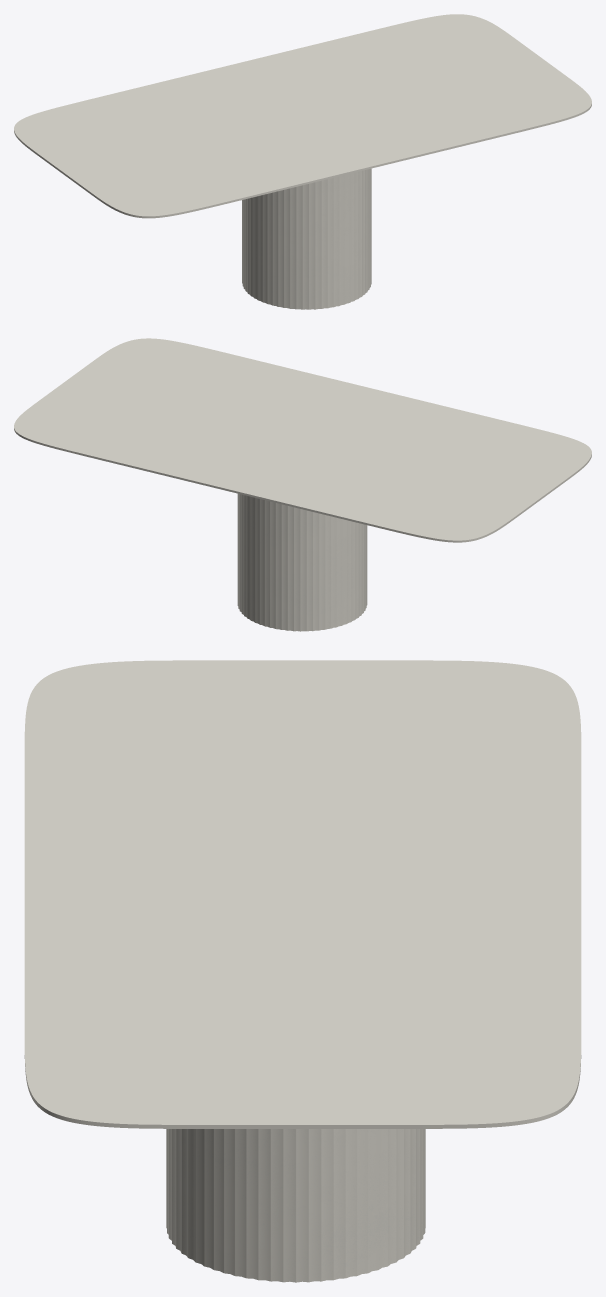
Rendered from pale_softrecta_facet_ripple.glb.
The picture shows the model from 3 angles, top to bottom: view 1: azimuth 30°, elevation 25°; view 2: azimuth 150°, elevation 25°; view 3: azimuth 270°, elevation 25°; orthographic projection. The views are drawn at different scales.
Parts seen in each view (by area): view 1: facet_softrecta, ripple; view 2: facet_softrecta, ripple; view 3: facet_softrecta, ripple.
Boxes of the visible parts, box(x1,y1,x2,y2) form: facet_softrecta: box(14, 14, 591, 218); ripple: box(242, 168, 371, 309); facet_softrecta: box(14, 338, 591, 542); ripple: box(237, 493, 367, 631); facet_softrecta: box(24, 660, 581, 1128); ripple: box(166, 1129, 425, 1282).
Size of the model in its own units: 7.5 by 2.5 by 3.8.
1 material, 1 textured.
